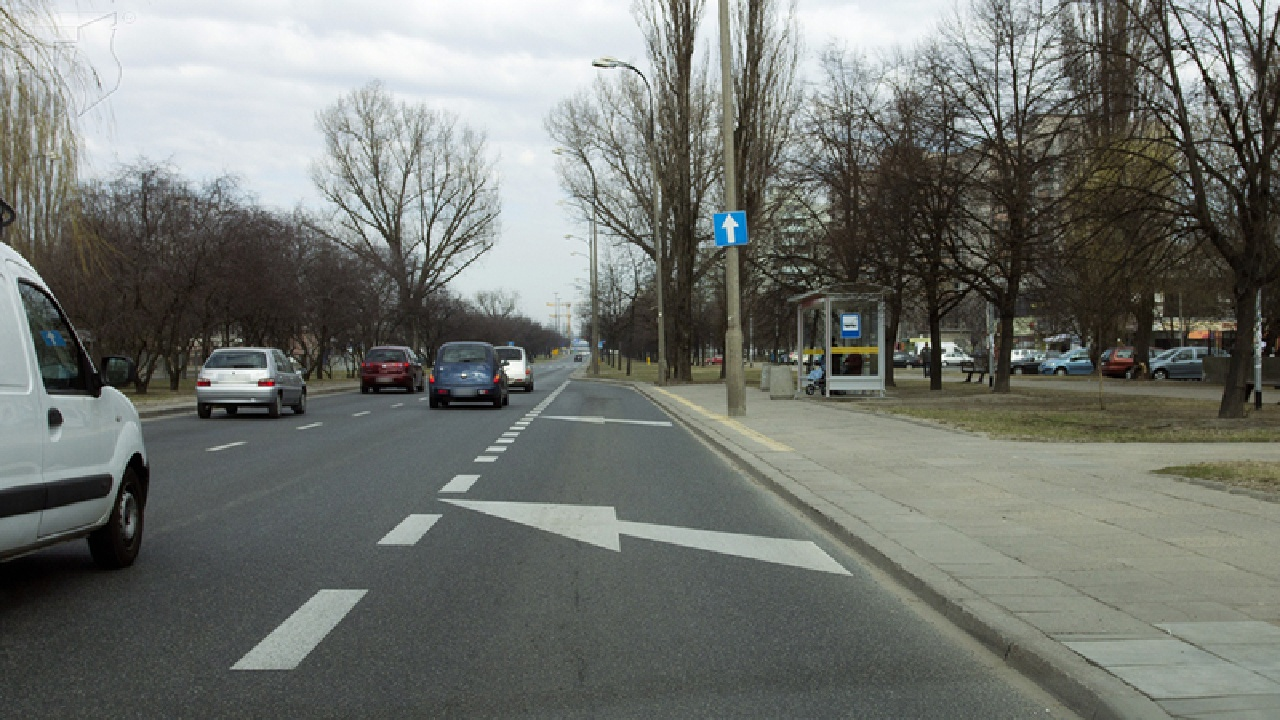D3: (713, 212, 747, 245)
